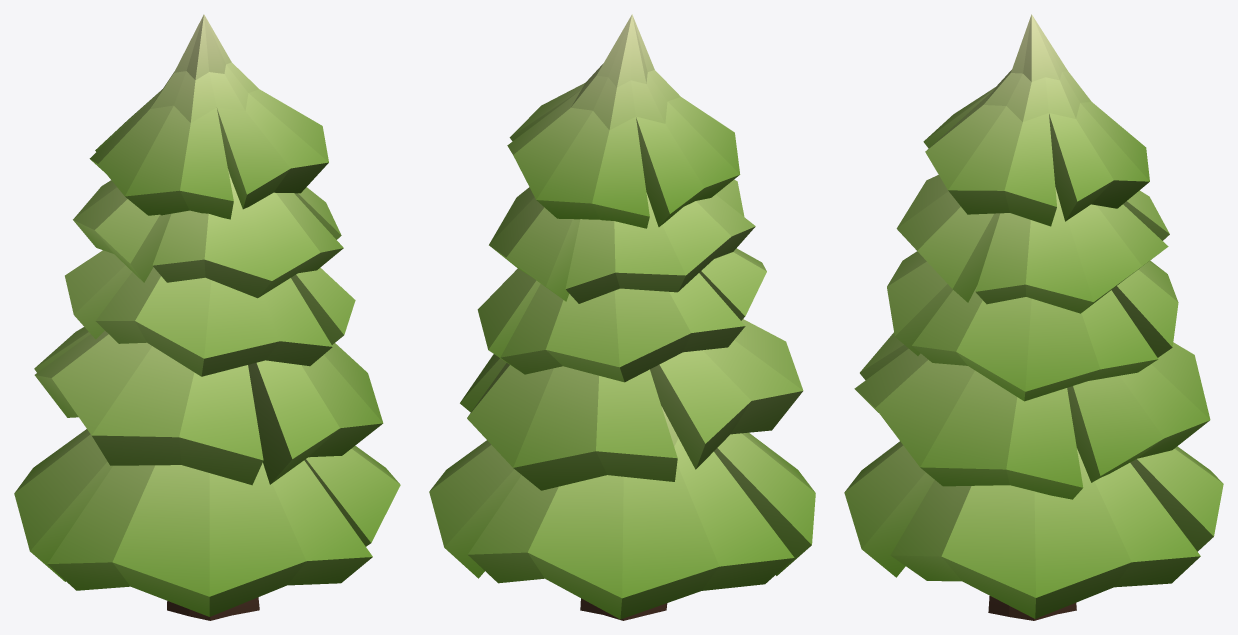
The model's file is Kuusi2.fbx.
3 renders of one model, left to right at view 1: azimuth 30°, elevation 25°; view 2: azimuth 150°, elevation 25°; view 3: azimuth 270°, elevation 25°, orthographic.
Parts seen in each view (by area): view 1: Circle.018, Circle.019, Circle.022, Circle.020, Circle.021, Circle.023; view 2: Circle.018, Circle.019, Circle.022, Circle.020, Circle.021; view 3: Circle.018, Circle.019, Circle.022, Circle.020, Circle.021, Circle.023.
Part boxes in pixels (bbox=[...]): Circle.018: bbox=[14, 429, 400, 616]; Circle.019: bbox=[34, 327, 383, 485]; Circle.022: bbox=[89, 14, 328, 219]; Circle.020: bbox=[65, 250, 355, 376]; Circle.021: bbox=[73, 169, 343, 298]; Circle.023: bbox=[167, 597, 259, 620]; Circle.018: bbox=[429, 406, 815, 619]; Circle.019: bbox=[460, 319, 803, 490]; Circle.022: bbox=[507, 14, 740, 228]; Circle.020: bbox=[477, 248, 766, 382]; Circle.021: bbox=[489, 179, 755, 303]; Circle.018: bbox=[844, 441, 1223, 618]; Circle.019: bbox=[854, 332, 1210, 499]; Circle.022: bbox=[923, 14, 1149, 226]; Circle.020: bbox=[887, 251, 1178, 401]; Circle.021: bbox=[896, 175, 1169, 313]; Circle.023: bbox=[988, 596, 1076, 620].
Size of the model in its own units: 243 by 388 by 229.
Materials: 1 (1 with a texture image).
